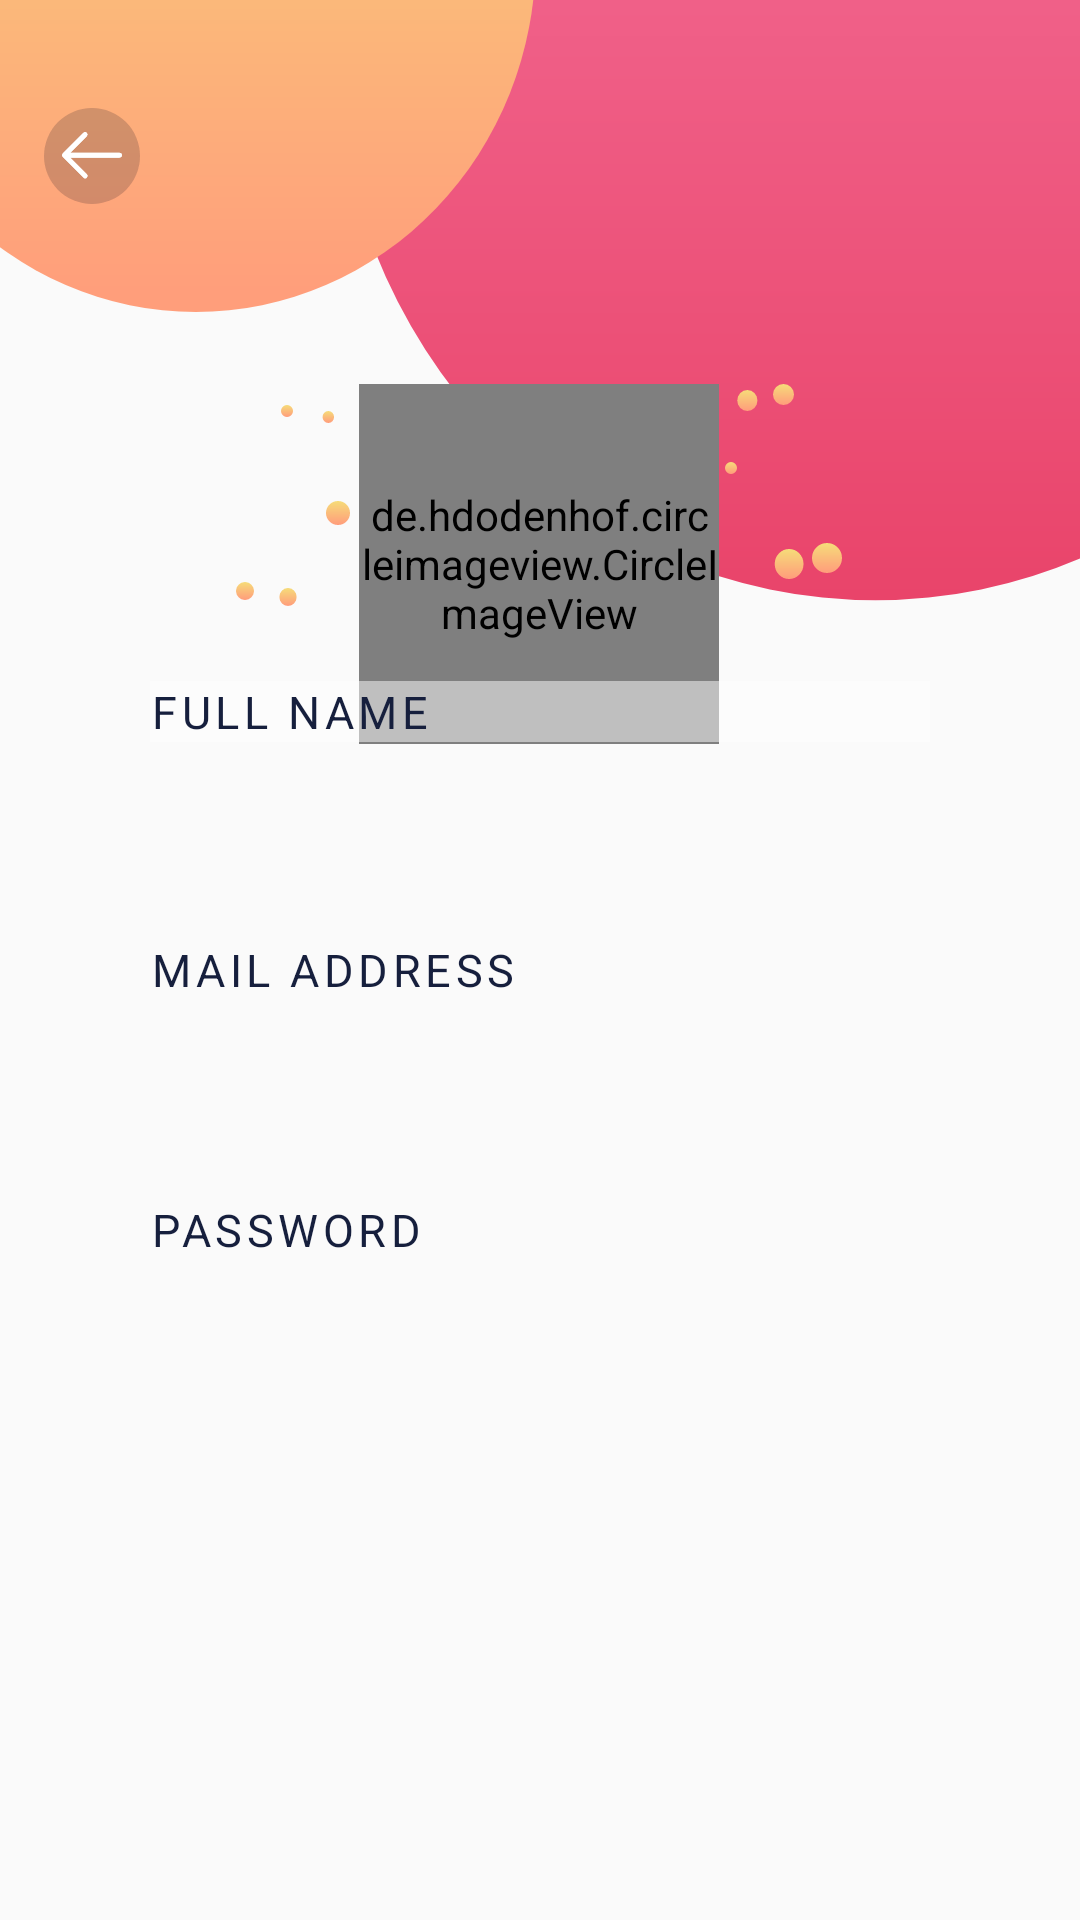

Named icons in this screenshot (1080*1920) and their centers, (x,y):
back: (92,156)
